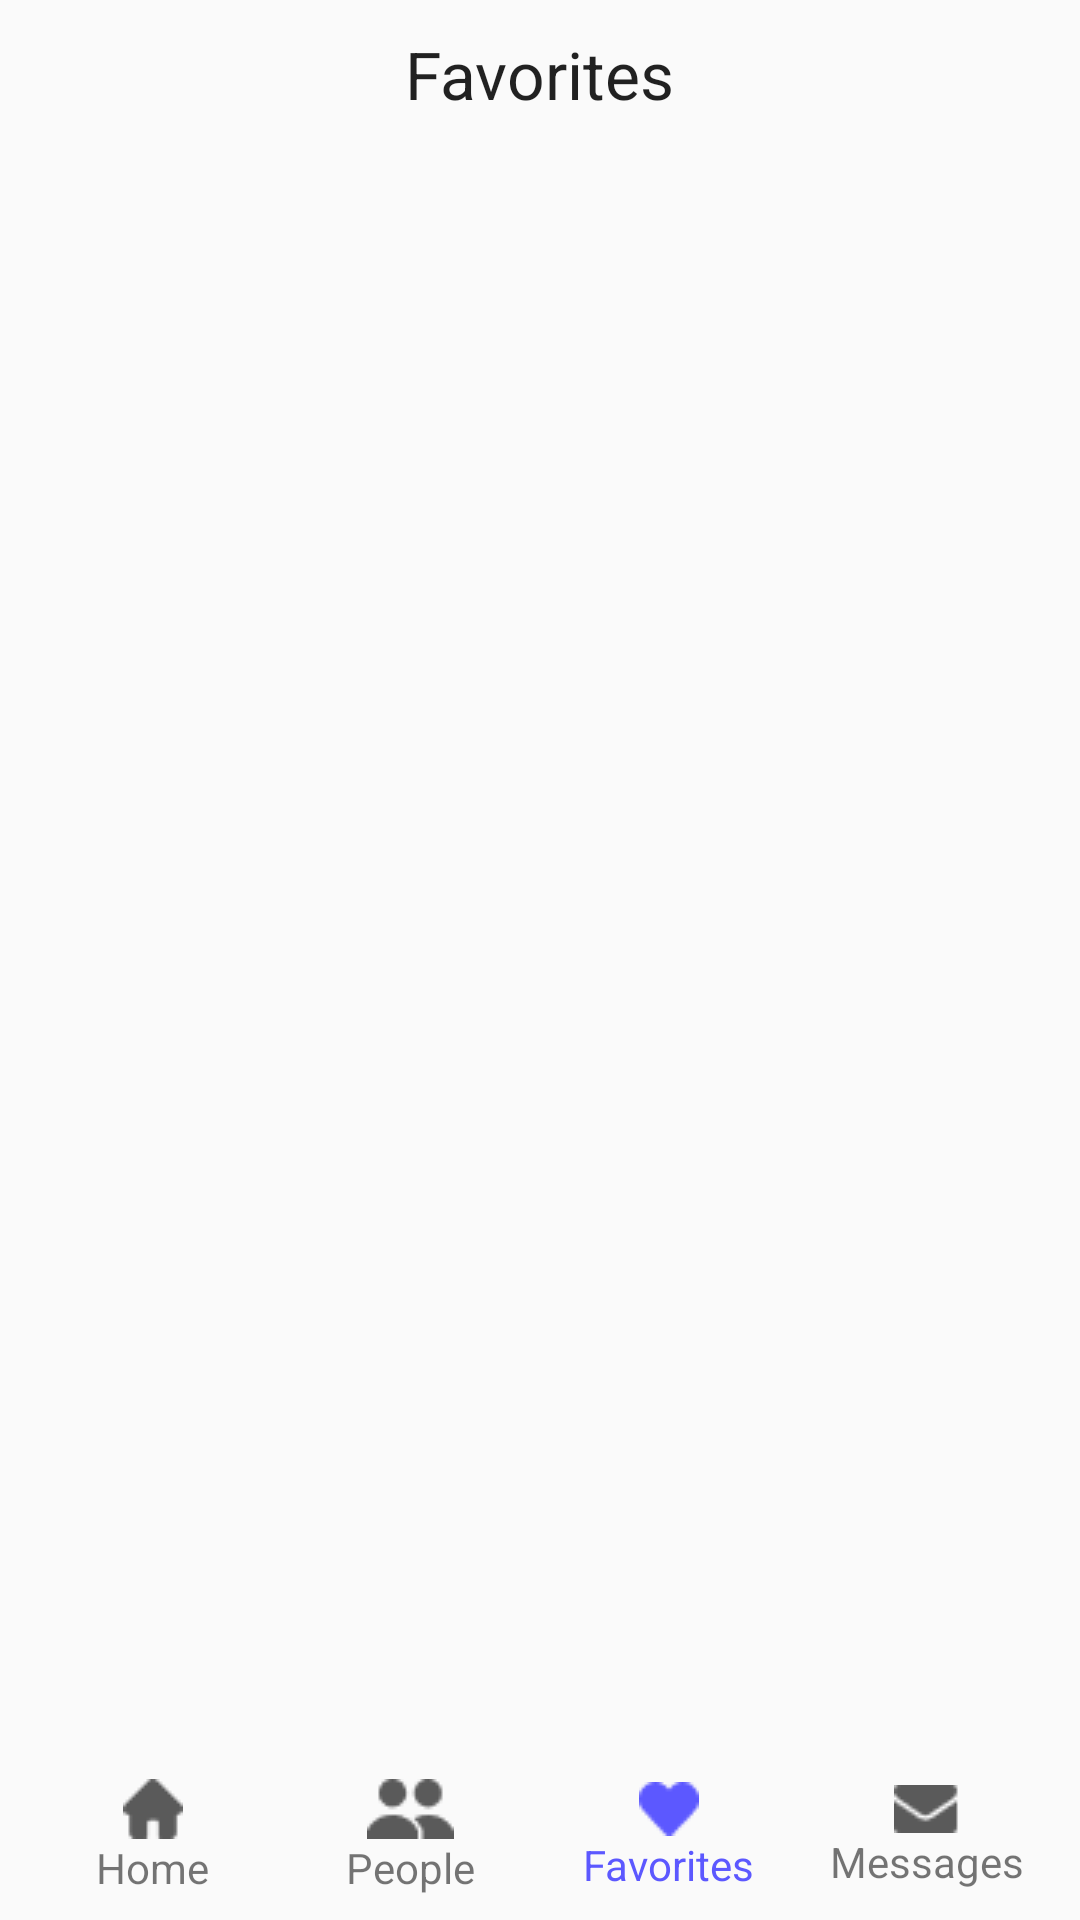

Icons on this 1080×1920 Android screen, each with the point to tap as (x=x, y=y):
heart: (x=669, y=1809)
